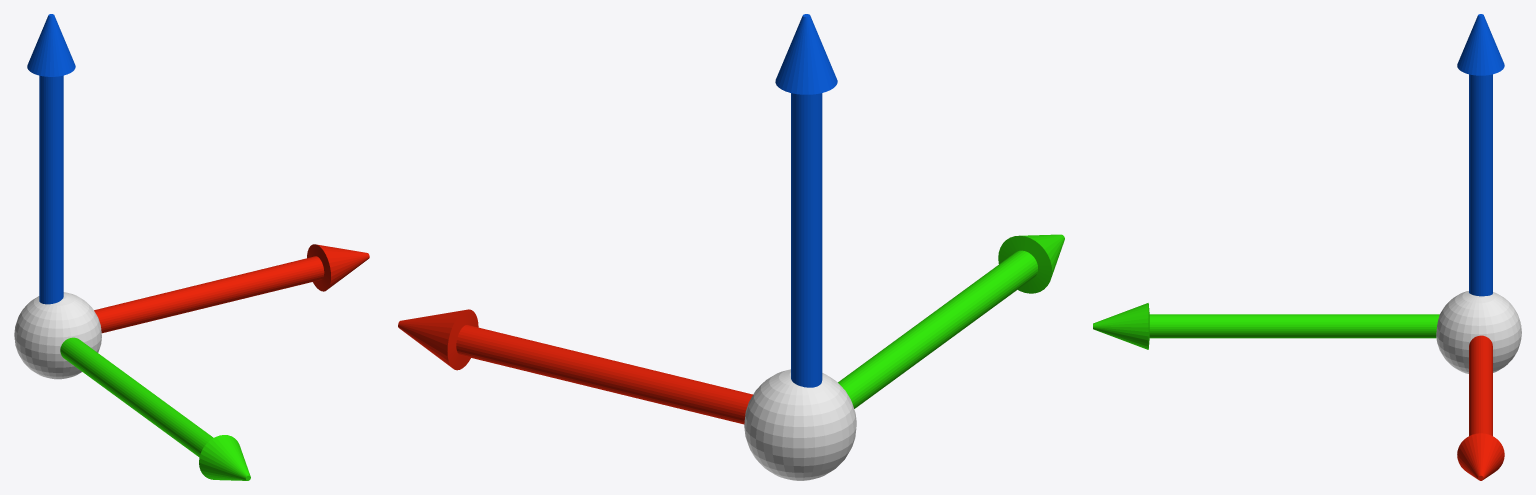
Rendered from gizmo.glb.
The picture shows the model from 3 angles, left to right: view 1: azimuth 30°, elevation 25°; view 2: azimuth 150°, elevation 25°; view 3: azimuth 270°, elevation 25°; orthographic projection. The views are drawn at different scales.
Visible parts, largest first — view 1: Sphere; view 2: Sphere; view 3: Sphere.
Boxes of the visible parts, x1,y1,x2,y2 form: Sphere: (14, 14, 369, 480); Sphere: (398, 14, 1064, 480); Sphere: (1093, 14, 1521, 480).
Size of the model in its own units: 2.47 by 2.44 by 2.68.
